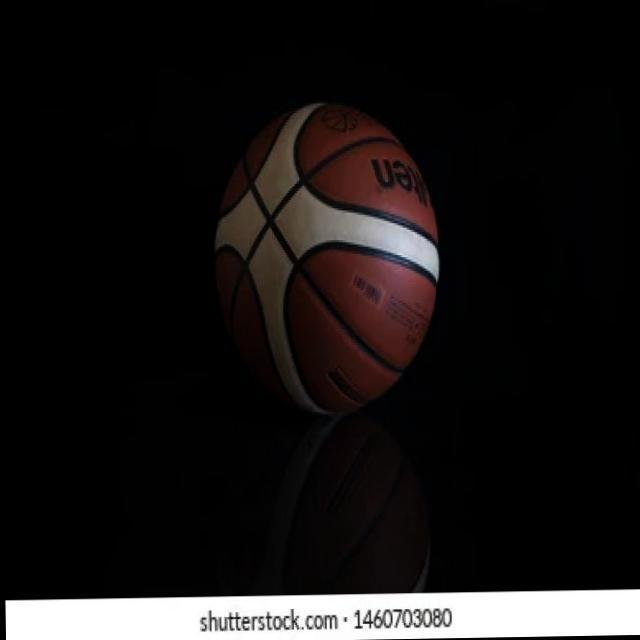ball: (209, 96, 446, 419)
